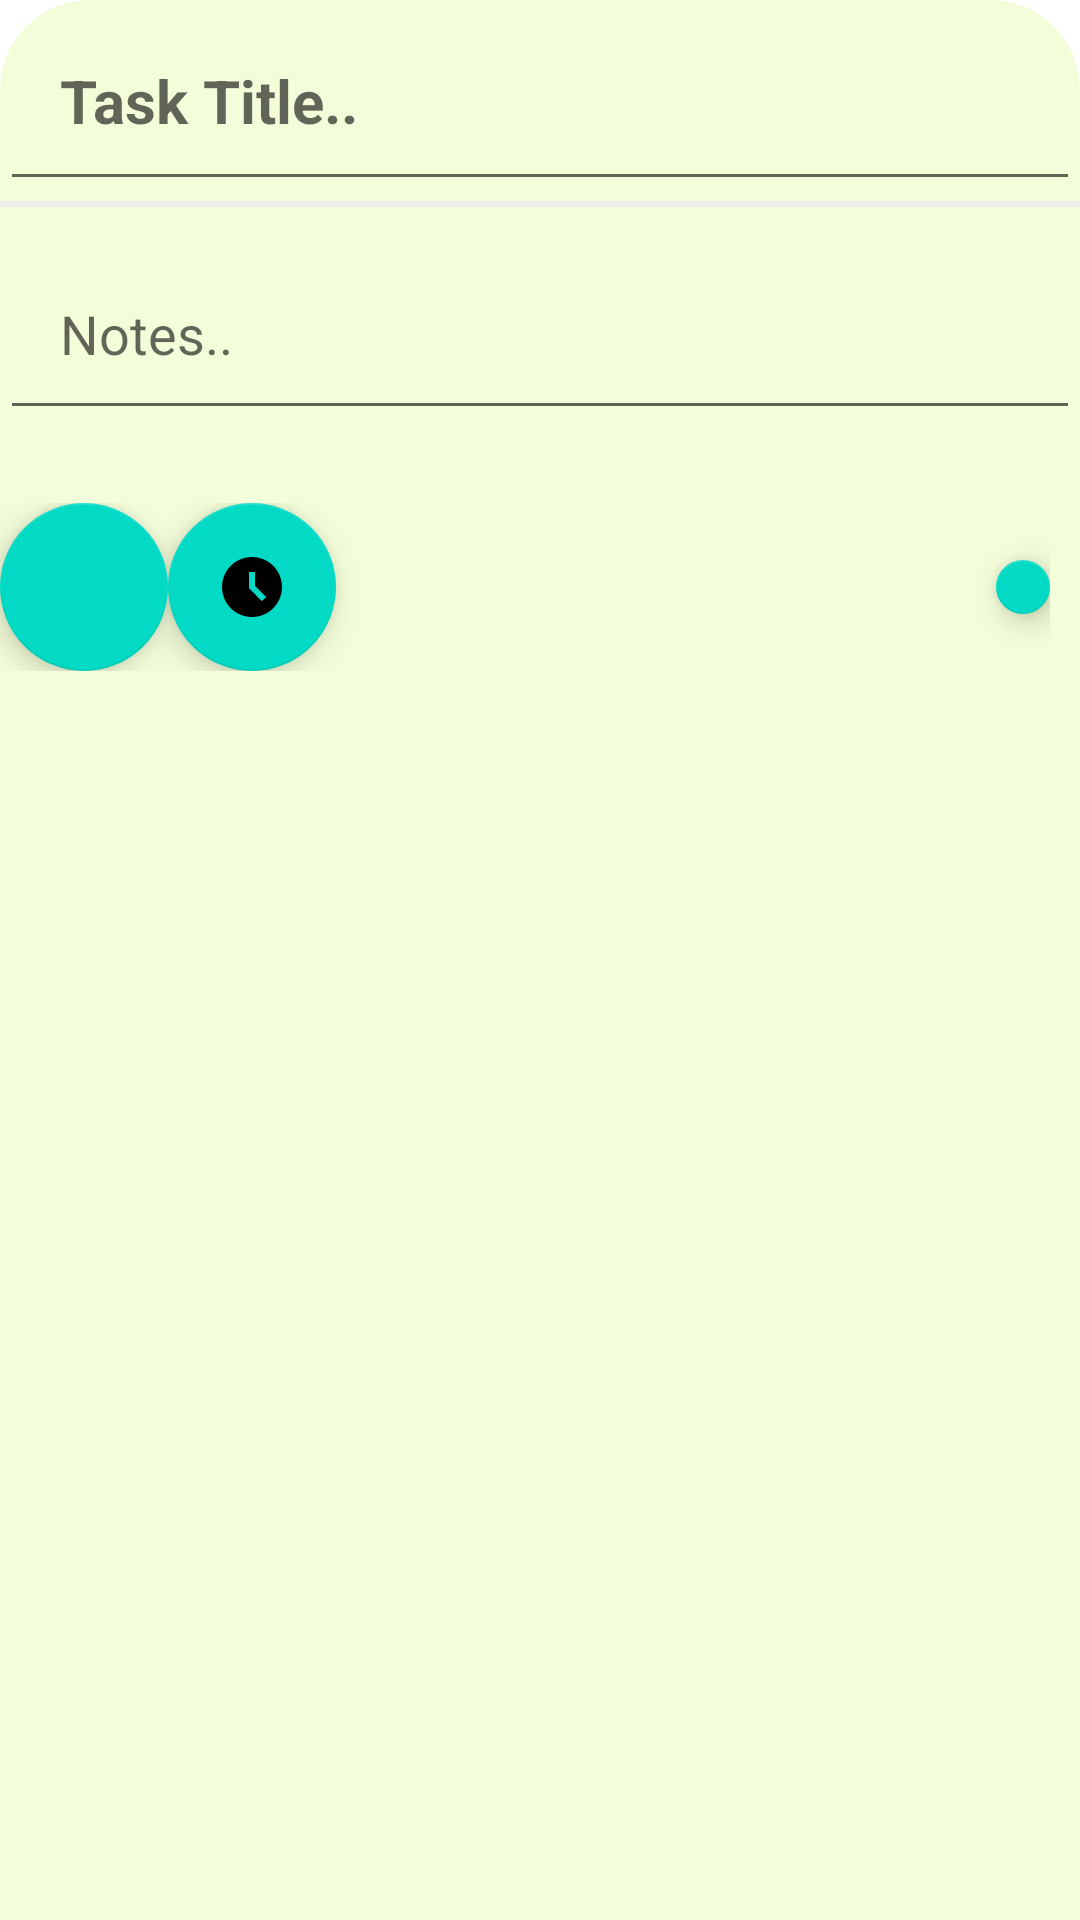

Screen size 1080x1920. Icon name, then its box in pixels as (x1, y1, x2, y2):
access time: (168, 503, 336, 671)
